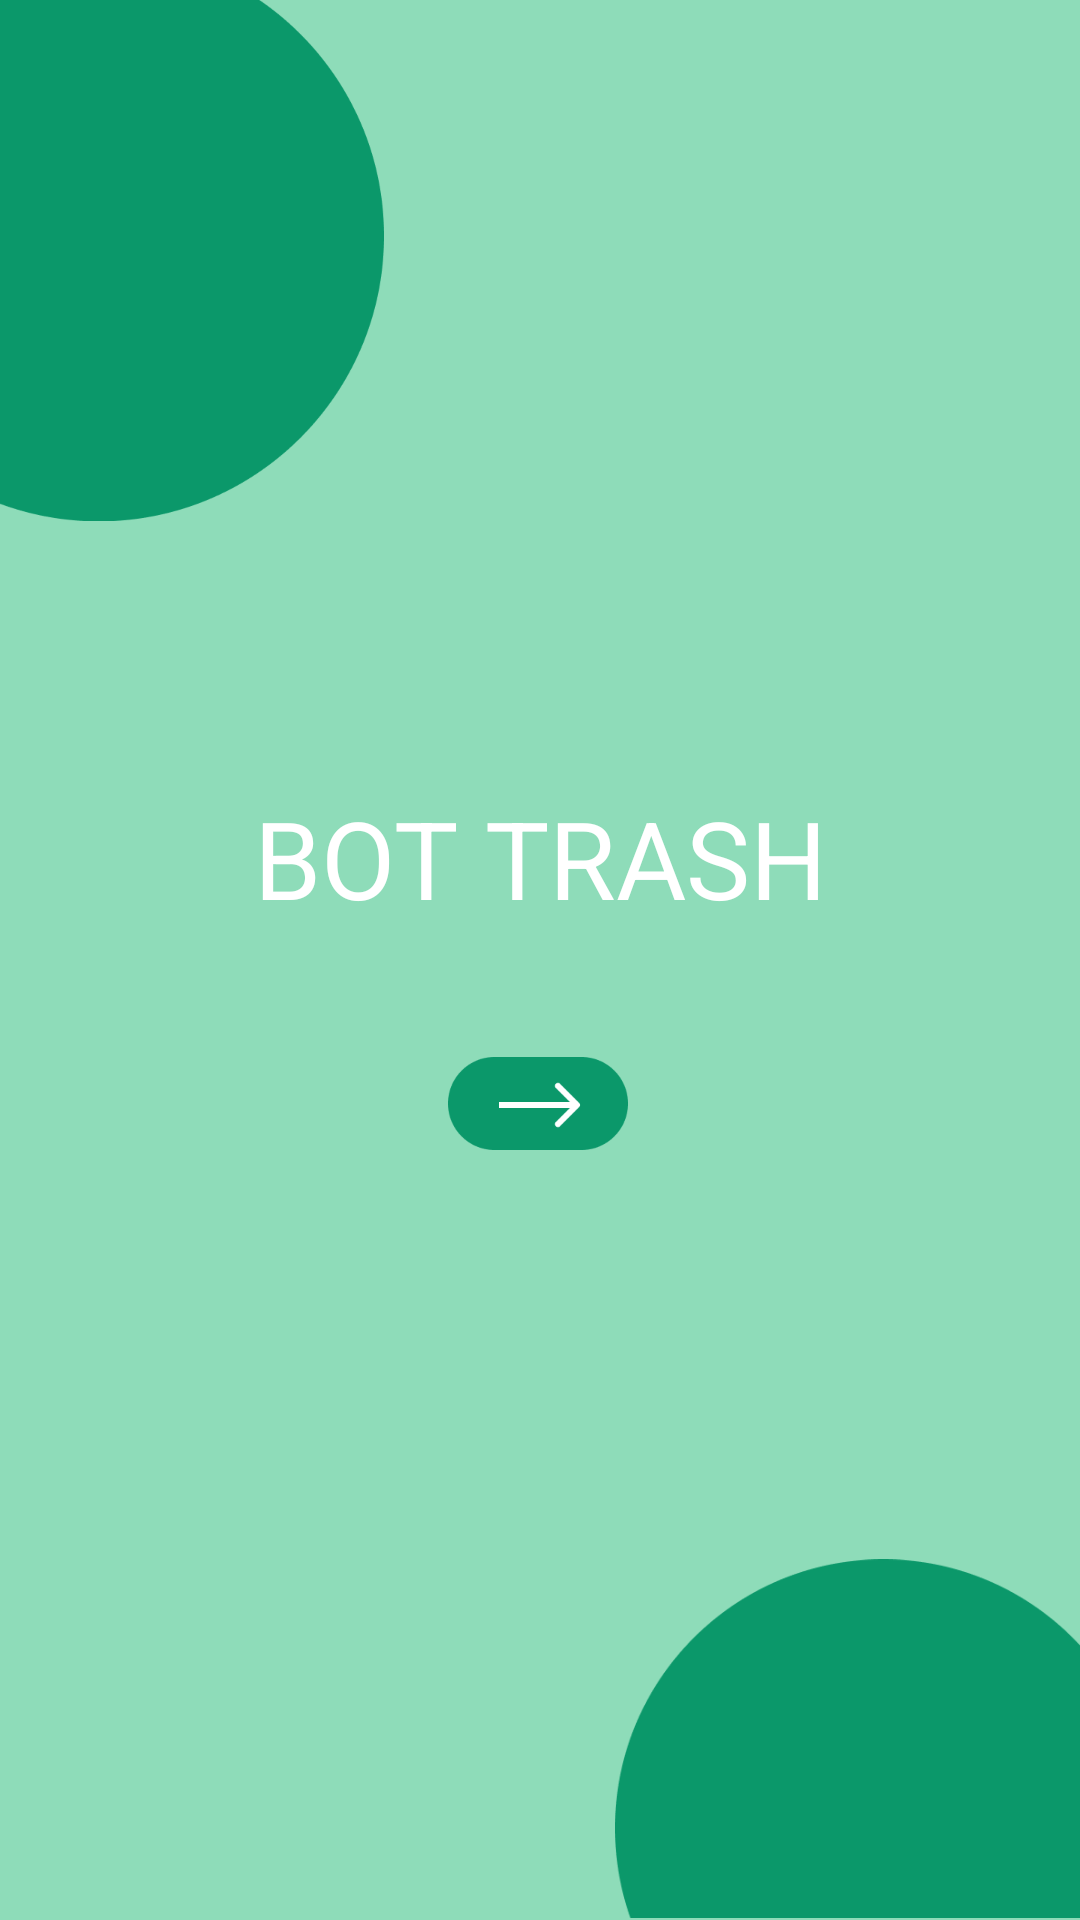

Where to tap for icons on this 1080x1920 app screen, as [x,y]:
flecha: [538,1103]
